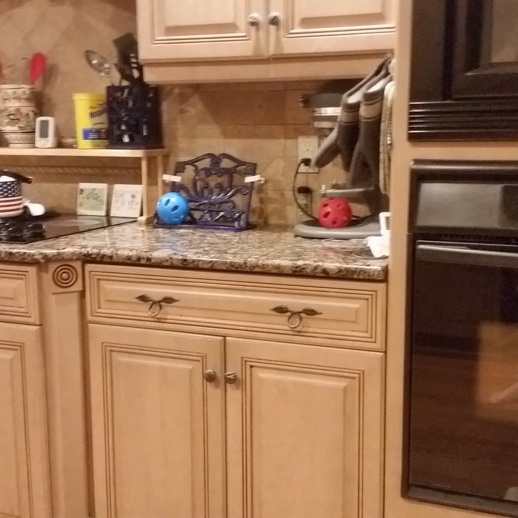blueball: (153, 189, 190, 226)
redball: (316, 195, 352, 230)
